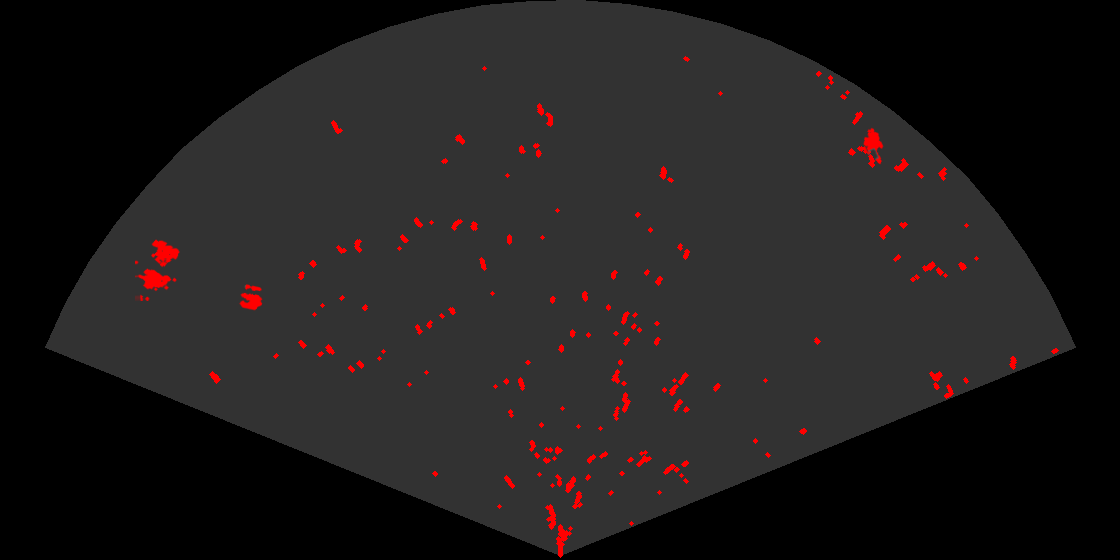AUV: (862, 126, 885, 166)
ball: (237, 283, 264, 312)
cage: (135, 238, 181, 301)
